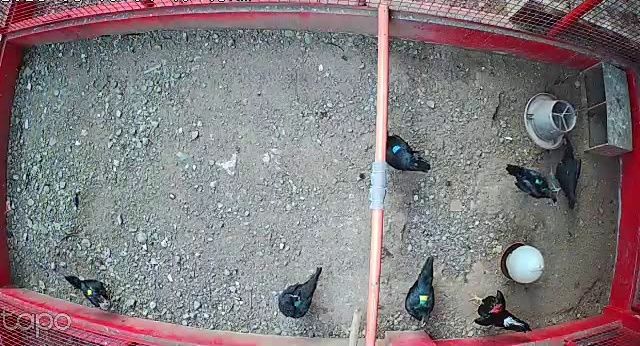Chicken: (543, 133, 587, 213), (403, 247, 443, 332), (274, 265, 326, 318), (380, 126, 434, 174), (502, 162, 558, 206), (64, 272, 115, 312)
Rooster: (464, 287, 530, 338)
Saddle_Color_Blue: (391, 144, 403, 157)
Saddle_Color_Green: (294, 298, 301, 306)
Saddle_Color_Yellow: (88, 288, 93, 296)
Saddle_Color_YellowGreen: (416, 294, 429, 308)
